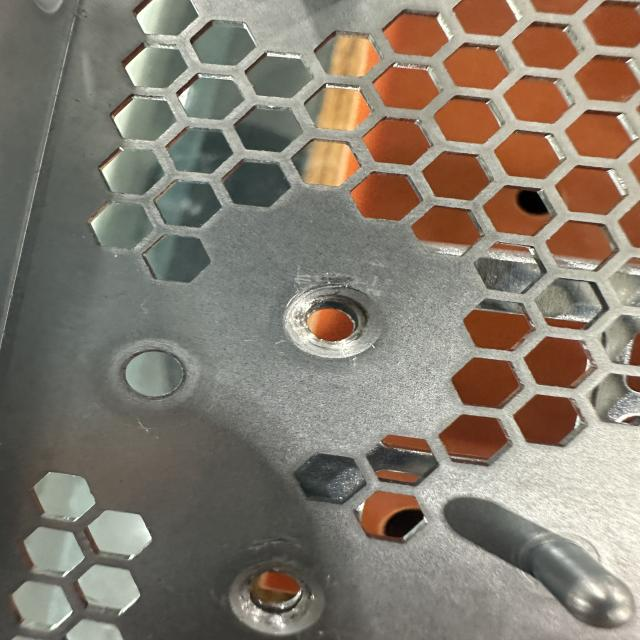Missing screw: (275, 276, 395, 368)
